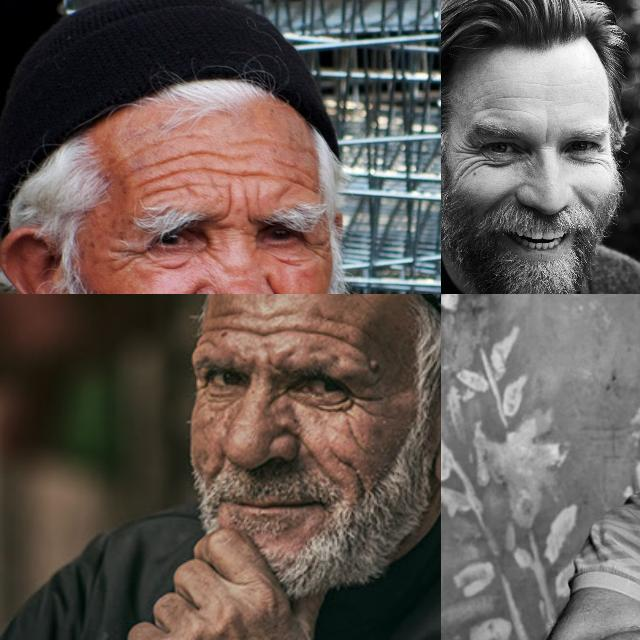bunny_line: (266, 382, 284, 408)
crows_feet: (350, 385, 384, 415), (115, 239, 151, 267), (302, 234, 336, 258), (454, 140, 480, 170), (594, 144, 614, 172)
forehead: (302, 314, 362, 356), (283, 155, 323, 201), (138, 159, 184, 197), (204, 304, 252, 338), (192, 146, 225, 190), (233, 148, 269, 188), (258, 304, 292, 344), (482, 100, 518, 120)
frown_line: (241, 194, 259, 222), (221, 194, 237, 224), (540, 116, 554, 146)
gummy_smile: (489, 186, 516, 208), (263, 275, 294, 294), (574, 188, 598, 208), (167, 282, 197, 294)
masseter: (334, 451, 368, 484), (341, 419, 367, 447)
